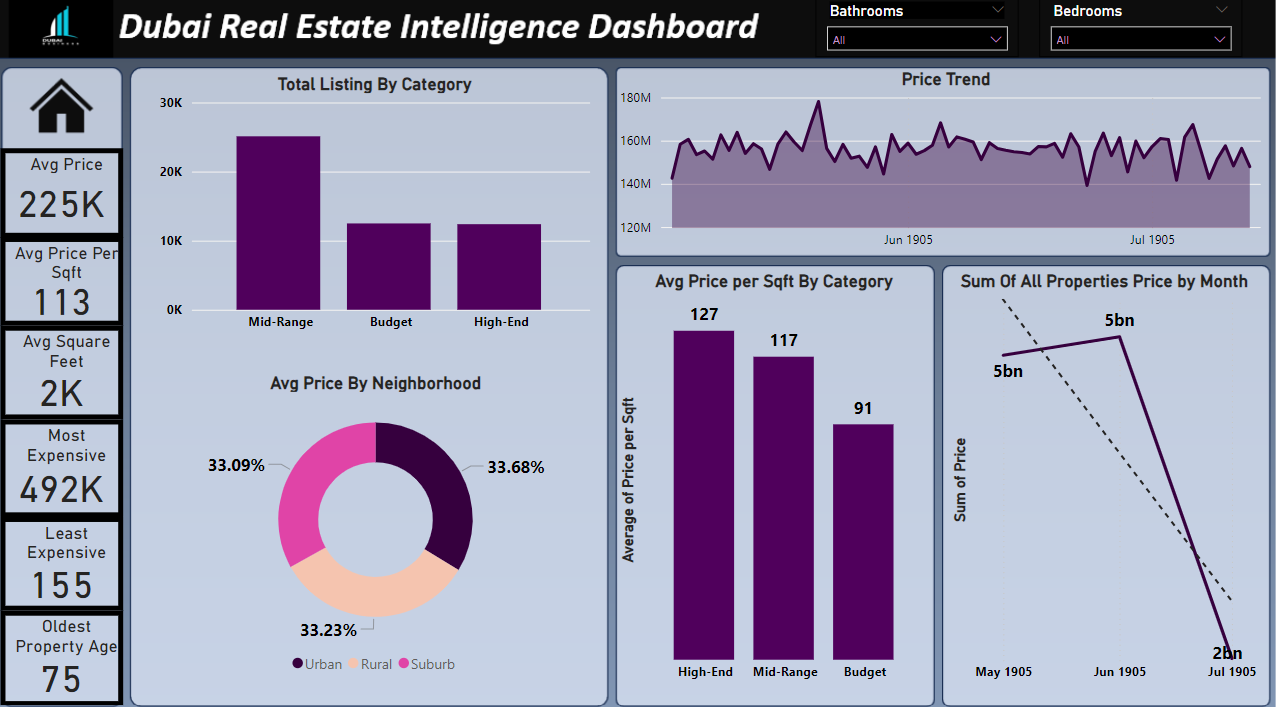

This screenshot's page, from the dashboard's own definition file:
{"tool":"powerbi","page":{"name":"Page 1","canvas":[1280,720],"ordinal":0},"visuals":[{"type":"card","title":"Avg Price","fields":{"Values":["Avg(housing_price_dataset.Price)"]},"box":[26,160.1,118.3,86.6],"z":0},{"type":"card","title":"Oldest Property Age","fields":{"Values":["Max(housing_price_dataset.Property Age)"]},"box":[26.5,606.8,118.2,91.7],"z":1000},{"type":"card","title":"Avg Price Per Sqft","fields":{"Values":["Avg(housing_price_dataset.Price per Sqft)"]},"box":[26.5,246.1,118.2,85.7],"z":2000},{"type":"card","title":"Most Expensive","fields":{"Values":["Max(housing_price_dataset.Price)"]},"box":[26.5,422.3,118.2,94.1],"z":3000},{"type":"card","title":"Avg Square Feet","fields":{"Values":["Avg(housing_price_dataset.SquareFeet)"]},"box":[26.5,331.8,118.2,90.5],"z":4000},{"type":"card","title":"Least Expensive","fields":{"Values":["Min(housing_price_dataset.Price)"]},"box":[26.5,516.4,118.2,90.5],"z":5000},{"type":"lineChart","title":"Price Trend ","fields":{"Y":["Sum(housing_price_dataset.Price)"],"Category":["housing_price_dataset.YearBuilt"]},"box":[618.9,83.7,640.6,183.2],"z":6000},{"type":"clusteredColumnChart","title":"Total Listing By Category ","fields":{"Category":["housing_price_dataset.Category"],"Y":["housing_price_dataset.Total Listings"]},"box":[174.6,88,425.6,258.3],"z":7000},{"type":"donutChart","title":"Avg Price By Neighborhood","fields":{"Category":["housing_price_dataset.Neighborhood"],"Y":["Avg(housing_price_dataset.Price)"]},"box":[165.9,376.6,444.4,300.1],"z":8000},{"type":"columnChart","title":"Avg Price per Sqft By Category","fields":{"Category":["housing_price_dataset.Category"],"Y":["Avg(housing_price_dataset.Price per Sqft)"]},"box":[618.9,278.5,308.8,405.4],"z":9000},{"type":"lineChart","title":"Sum Of All Properties Price by Month ","fields":{"Category":["housing_price_dataset.YearBuilt.Variation.Date Hierarchy.Year","housing_price_dataset.YearBuilt.Variation.Date Hierarchy.Month"],"Y":["Sum(housing_price_dataset.Price)"]},"box":[939.2,278.5,304.4,405.4],"z":10000},{"type":"slicer","fields":{"Values":["housing_price_dataset.Bathrooms"]},"box":[813.7,13,196.2,59.2],"z":11000},{"type":"slicer","fields":{"Values":["housing_price_dataset.Bedrooms"]},"box":[1028.7,13,196.2,59.2],"z":12000}]}

Visuals, with their boxes in screenshot pixels (x1, y1, x2, y2), scaled from the page's 1280x720 canvas onto the 1277x707 screenshot:
"Avg Price" card: rect(26, 157, 144, 242)
"Oldest Property Age" card: rect(26, 596, 144, 686)
"Avg Price Per Sqft" card: rect(26, 242, 144, 326)
"Most Expensive" card: rect(26, 415, 144, 507)
"Avg Square Feet" card: rect(26, 326, 144, 415)
"Least Expensive" card: rect(26, 507, 144, 596)
"Price Trend " lineChart: rect(617, 82, 1257, 262)
"Total Listing By Category " clusteredColumnChart: rect(174, 86, 599, 340)
"Avg Price By Neighborhood" donutChart: rect(166, 370, 609, 664)
"Avg Price per Sqft By Category" columnChart: rect(617, 273, 926, 672)
"Sum Of All Properties Price by Month " lineChart: rect(937, 273, 1241, 672)
slicer - housing_price_dataset.Bathrooms: rect(812, 13, 1008, 71)
slicer - housing_price_dataset.Bedrooms: rect(1026, 13, 1222, 71)
